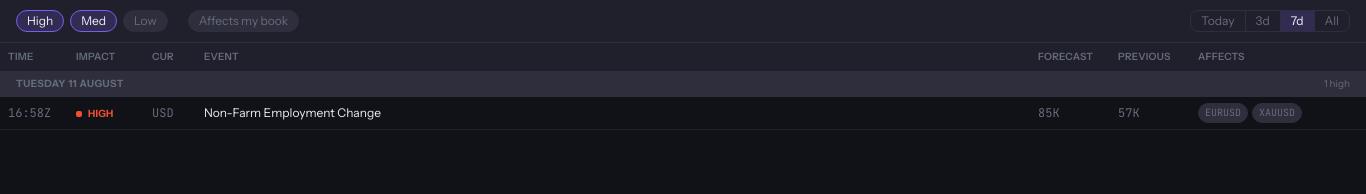
Scenario: CalendarExpanded › restores every row via Reset filters
Expected: the row with test id "calendar-row" is shown, 0,96 -> 1365,130
Click the button "High".
click(40, 21)  # box 16,10 -> 64,32
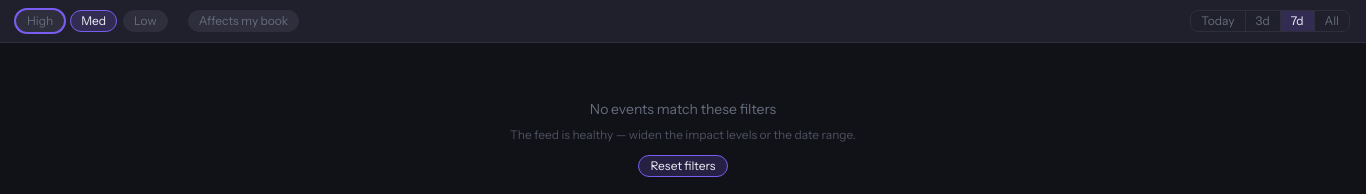
Click the button "Med".
click(94, 21)  # box 70,10 -> 117,32
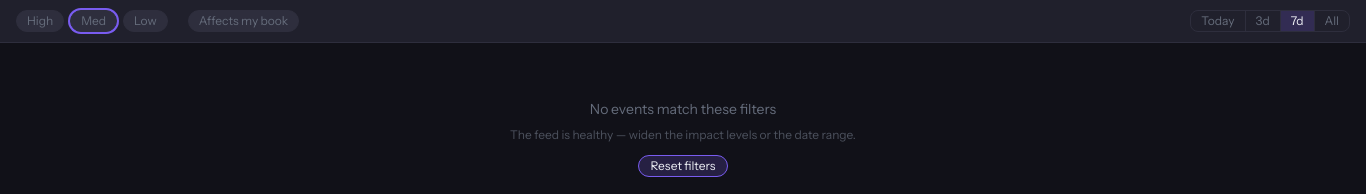
Click the button "Reset filters".
click(683, 166)  # box 638,155 -> 728,177
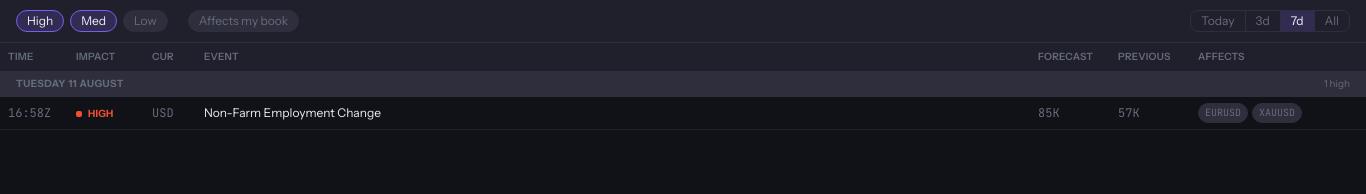
Now the row with test id "calendar-row" is shown, box 0,96 -> 1365,130
